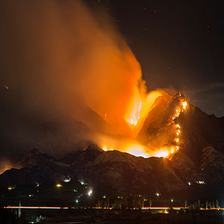fire: (76, 48, 197, 164)
